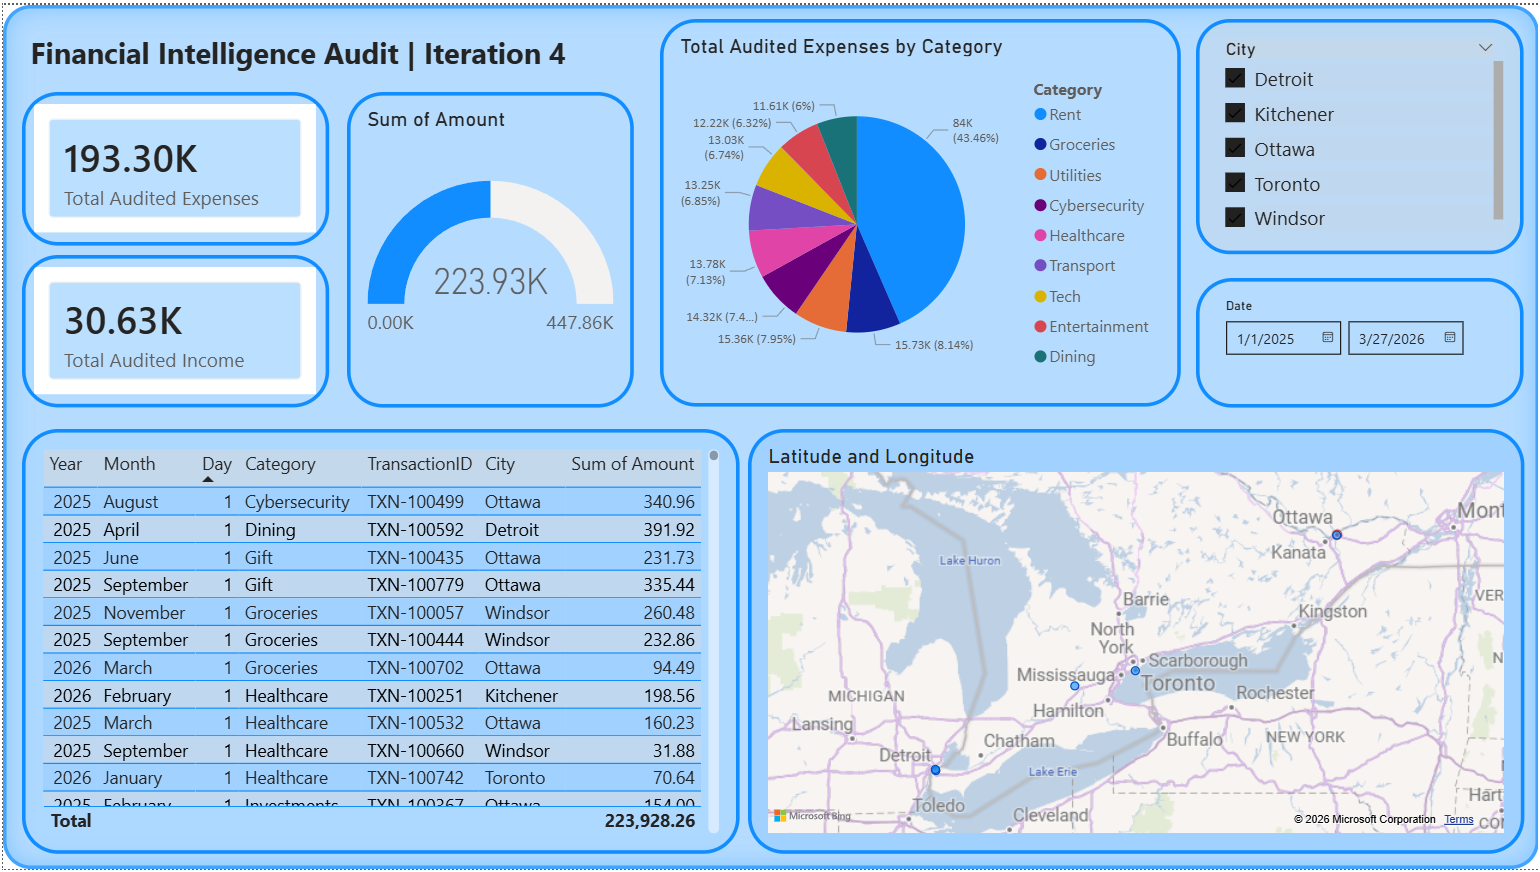

Layout of this report page (visuals, bound fields, positions):
{"tool":"powerbi","page":{"name":"Main","canvas":[1280,720],"ordinal":0},"visuals":[{"type":"textbox","title":"Financial Intelligence Audit | Iteration 4","box":[0,0,1280,720],"z":0},{"type":"slicer","fields":{"Values":["Fact_Transactions_Messy.City"]},"box":[994.2,11.7,272.5,195.8],"z":2},{"type":"slicer","fields":{"Values":["Fact_Transactions_Messy.Date"]},"box":[994.2,227.5,273.3,107.5],"z":4},{"type":"tableEx","fields":{"Values":["Dim_Date.Date.Variation.Date Hierarchy.Year","Dim_Date.Date.Variation.Date Hierarchy.Month","Dim_Date.Date.Variation.Date Hierarchy.Day","Fact_Transactions_Messy.Category","Fact_Transactions_Messy.TransactionID","Fact_Transactions_Messy.City","Sum(Fact_Transactions_Messy.Amount)"]},"box":[15.8,353.3,598.3,354.2],"z":5},{"type":"cardVisual","fields":{"Data":["Dim_Date.Total Audited Expenses"]},"box":[15.8,72.5,255.8,127.5],"z":6},{"type":"cardVisual","fields":{"Data":["Dim_Date.Total Audited Income"]},"box":[15.8,208.3,255.8,126.7],"z":7},{"type":"map","fields":{"Y":["Fact_Transactions_Messy.Latitude"],"X":["Fact_Transactions_Messy.Longitude"]},"box":[620.8,353.3,646.7,354.2],"z":8},{"type":"pieChart","fields":{"Category":["Fact_Transactions_Messy.Category"],"Y":["Dim_Date.Total Audited Expenses"]},"box":[547.5,11.7,434.2,323.3],"z":9},{"type":"gauge","fields":{"Y":["Sum(Fact_Transactions_Messy.Amount)"]},"box":[286.7,72.5,239.2,262.5],"z":10}]}

Visuals, with their boxes in screenshot pixels (x1, y1, x2, y2), scaled from the page's 1280x720 canvas onto the 1540x872 screenshot:
"Financial Intelligence Audit | Iteration 4" textbox: box=[0, 0, 1539, 871]
slicer - Fact_Transactions_Messy.City: box=[1196, 14, 1524, 251]
slicer - Fact_Transactions_Messy.Date: box=[1196, 276, 1525, 406]
tableEx - Dim_Date.Date.Variation.Date Hierarchy.Year x Dim_Date.Date.Variation.Date Hierarchy.Month: box=[19, 428, 739, 857]
cardVisual - Dim_Date.Total Audited Expenses: box=[19, 88, 327, 242]
cardVisual - Dim_Date.Total Audited Income: box=[19, 252, 327, 406]
map - Fact_Transactions_Messy.Latitude x Fact_Transactions_Messy.Longitude: box=[747, 428, 1525, 857]
pieChart - Fact_Transactions_Messy.Category x Dim_Date.Total Audited Expenses: box=[659, 14, 1181, 406]
gauge - Sum(Fact_Transactions_Messy.Amount): box=[345, 88, 633, 406]
